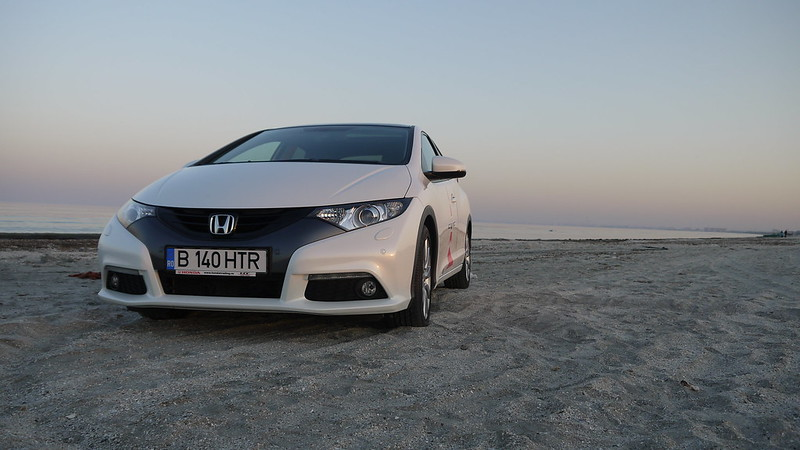car: (93, 118, 482, 331)
